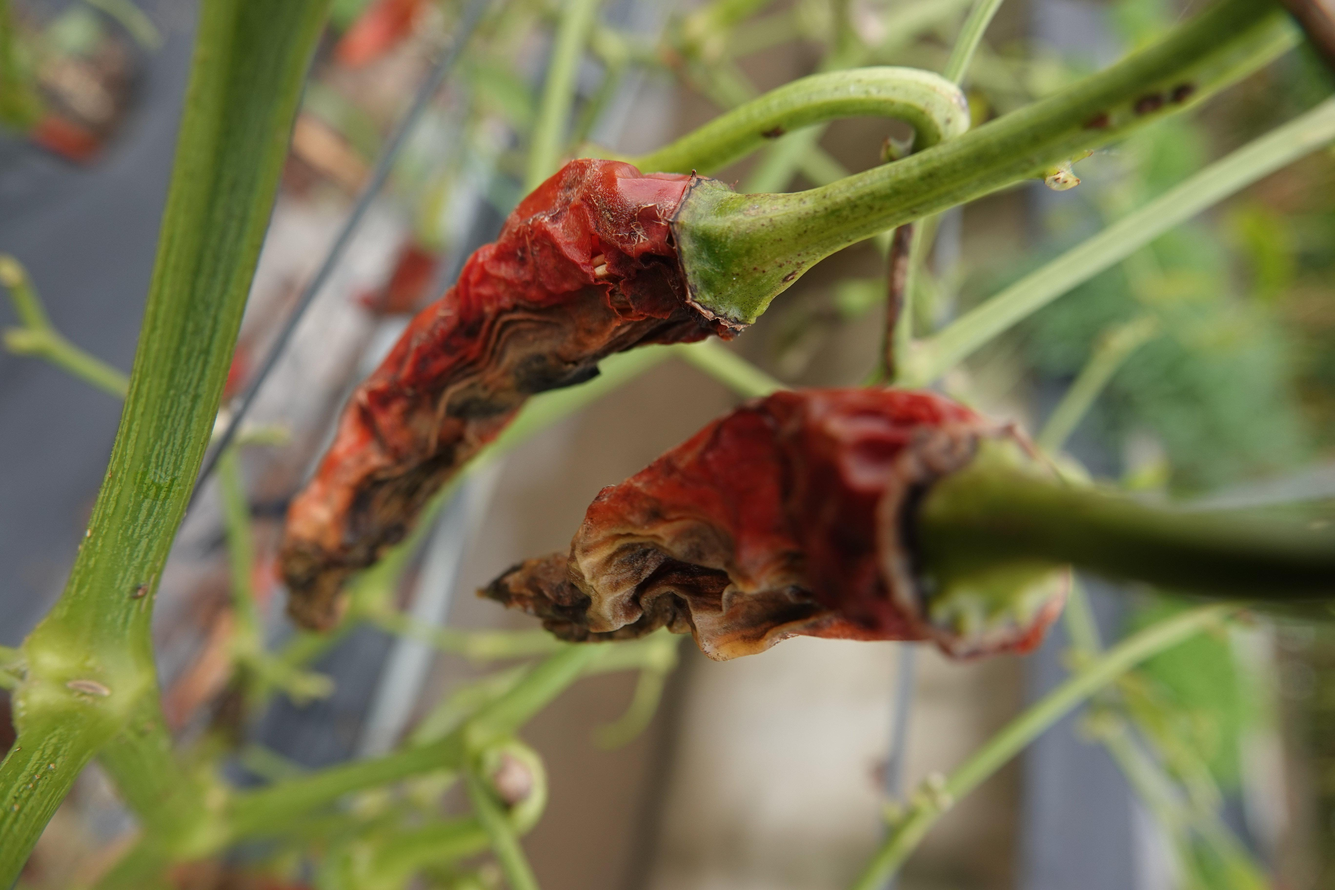Busuk Buah Antraknosa: (272, 154, 740, 636), (475, 382, 1076, 665)
